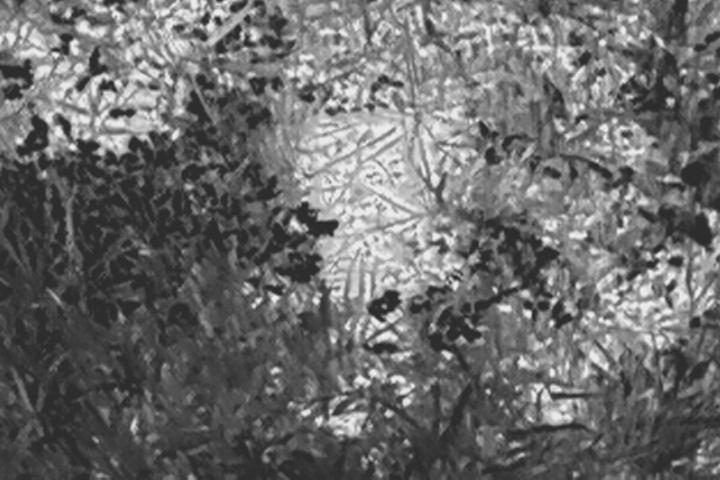landmine: (287, 97, 452, 297)
